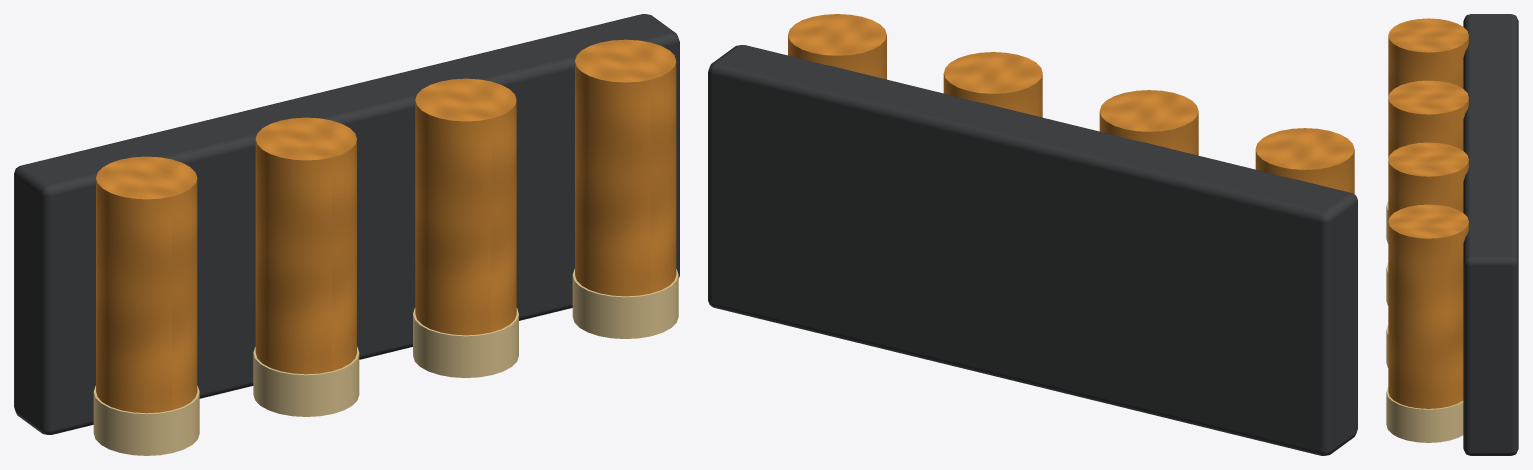
Rendered from fps-weapon-set-and-firing-range-shotgun-shell-carrier-858daaa0__19478.glb.
The picture shows the model from 3 angles, left to right: view 1: azimuth 30°, elevation 25°; view 2: azimuth 150°, elevation 25°; view 3: azimuth 270°, elevation 25°; orthographic projection. The views are drawn at different scales.
Parts seen in each view (by area): view 1: shotgun-shell-carrier; view 2: shotgun-shell-carrier; view 3: shotgun-shell-carrier.
Part boxes in pixels (x1,y1,x2,y2): shotgun-shell-carrier: (14,14,679,455); shotgun-shell-carrier: (708,14,1357,455); shotgun-shell-carrier: (1386,14,1518,455).
Size of the model in its own units: 0.16 by 0.062 by 0.036.
Materials: 3 (1 with a texture image).
